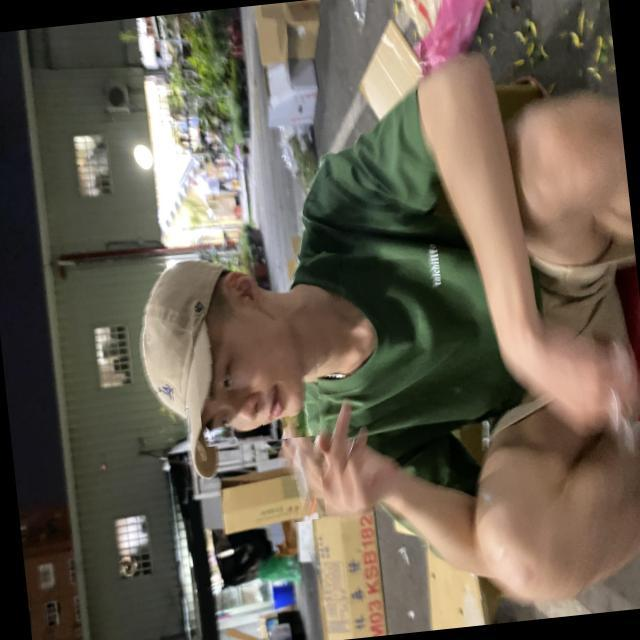cigarette: (189, 293, 328, 447), (278, 437, 326, 522)
